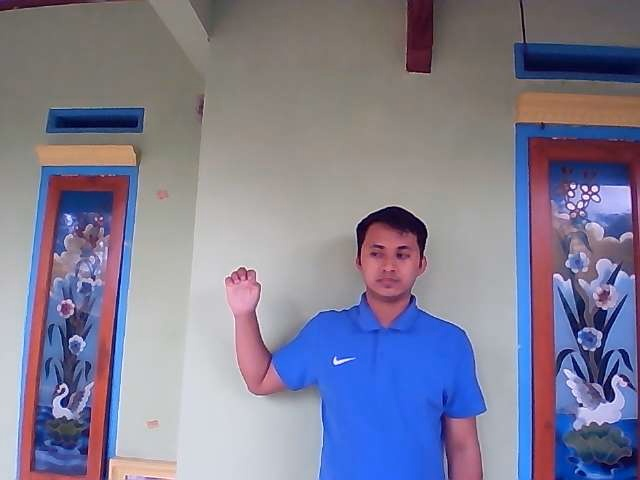E: (223, 266, 262, 315)
